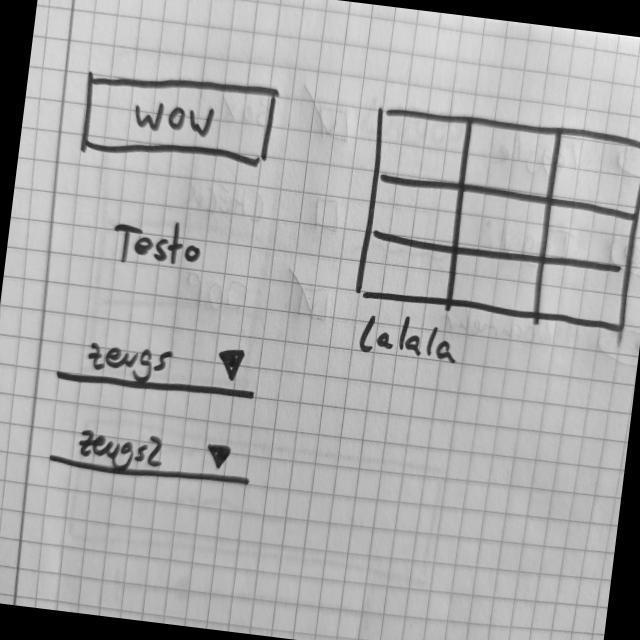button: (77, 62, 283, 177)
label: (355, 306, 462, 368), (108, 214, 206, 274)
select: (54, 324, 264, 409), (45, 416, 259, 493)
table: (351, 101, 640, 338)
